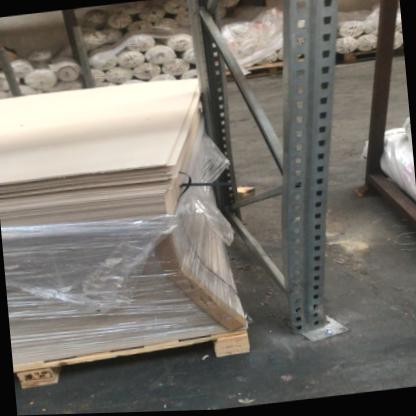vertical_damage: (279, 272, 348, 351)
